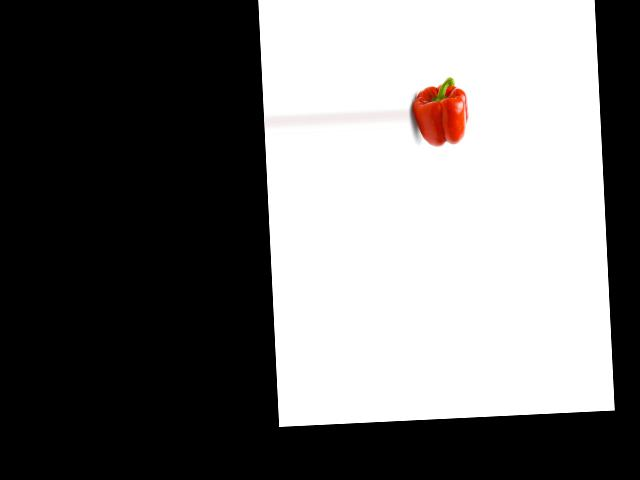bell_pepper: (412, 72, 469, 153)
